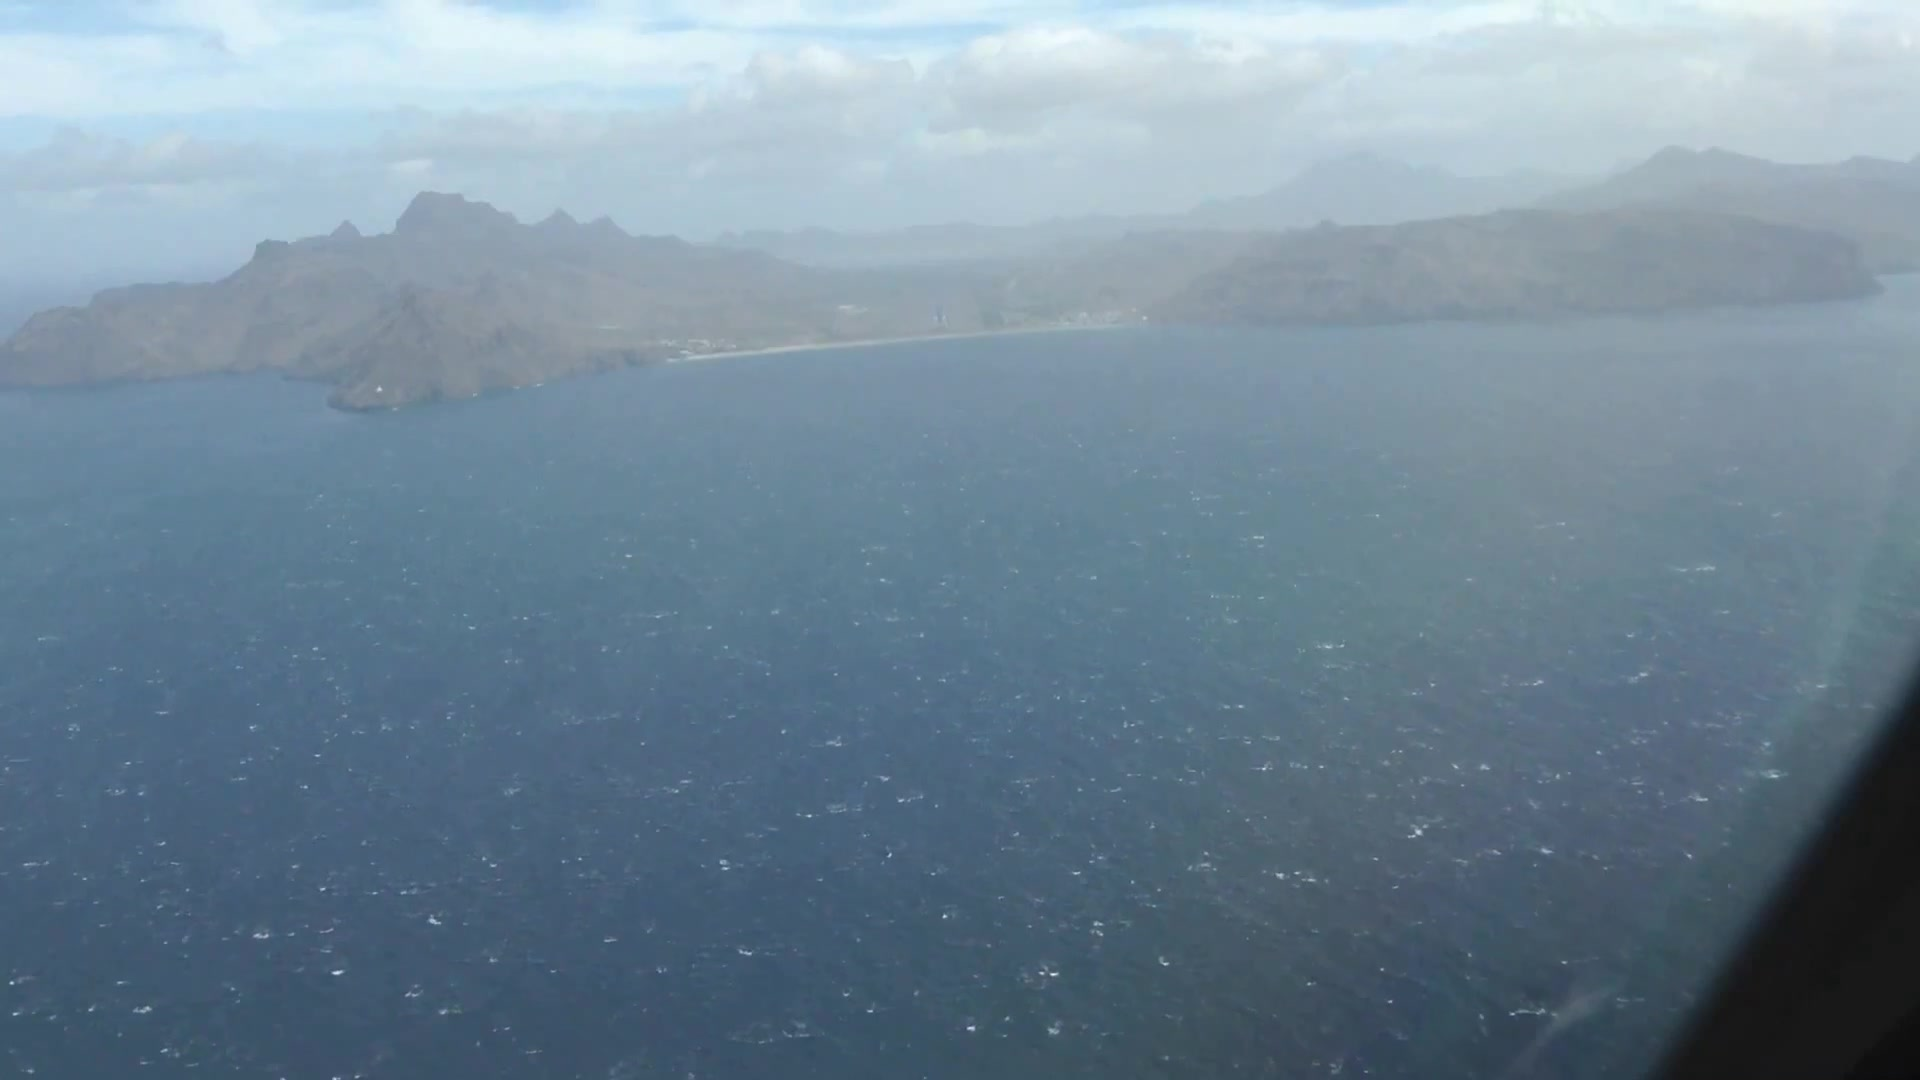runway: (932, 294, 945, 328)
